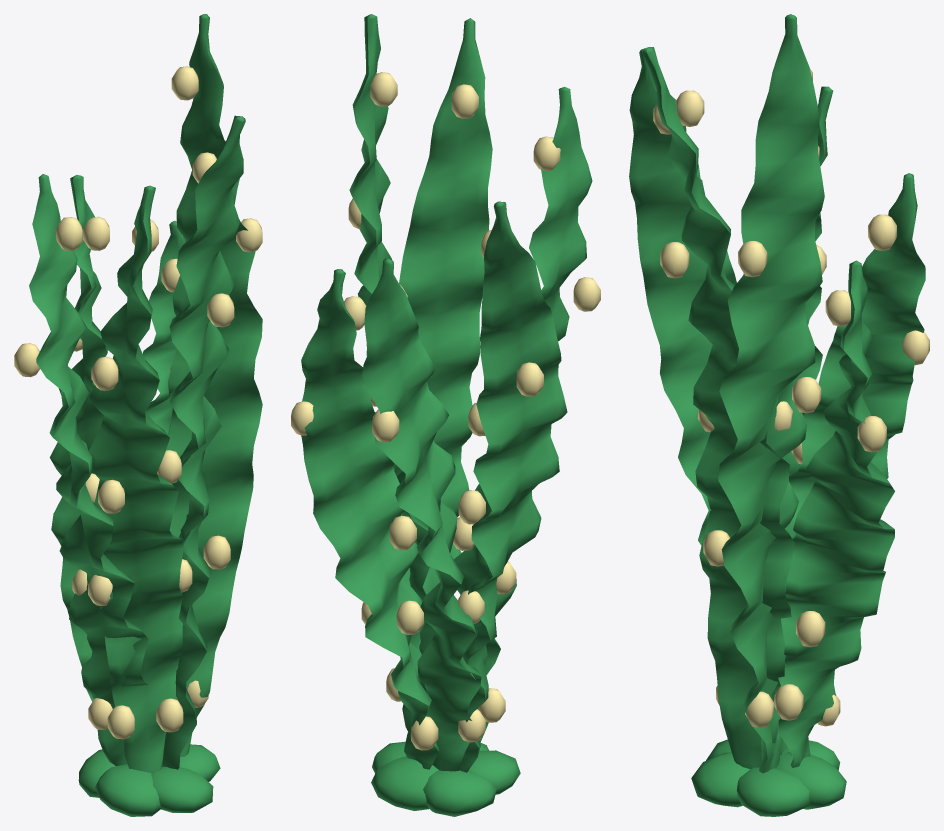
The model's file is SharkBaitKelp.obj.
The picture shows the model from 3 angles, left to right: view 1: azimuth 30°, elevation 25°; view 2: azimuth 150°, elevation 25°; view 3: azimuth 270°, elevation 25°; orthographic projection. The views are drawn at different scales.
Visible parts, largest first — view 1: Kelp, Bulbs; view 2: Kelp, Bulbs; view 3: Kelp, Bulbs.
Part boxes in pixels (<box>): Kelp: <box>29,14,262,816</box>; Bulbs: <box>14,66,262,739</box>; Kelp: <box>301,14,592,816</box>; Bulbs: <box>291,72,600,750</box>; Kelp: <box>629,14,925,816</box>; Bulbs: <box>653,68,929,727</box>.
Bounding box in the file's own units: 3.59 × 12 × 4.01.
